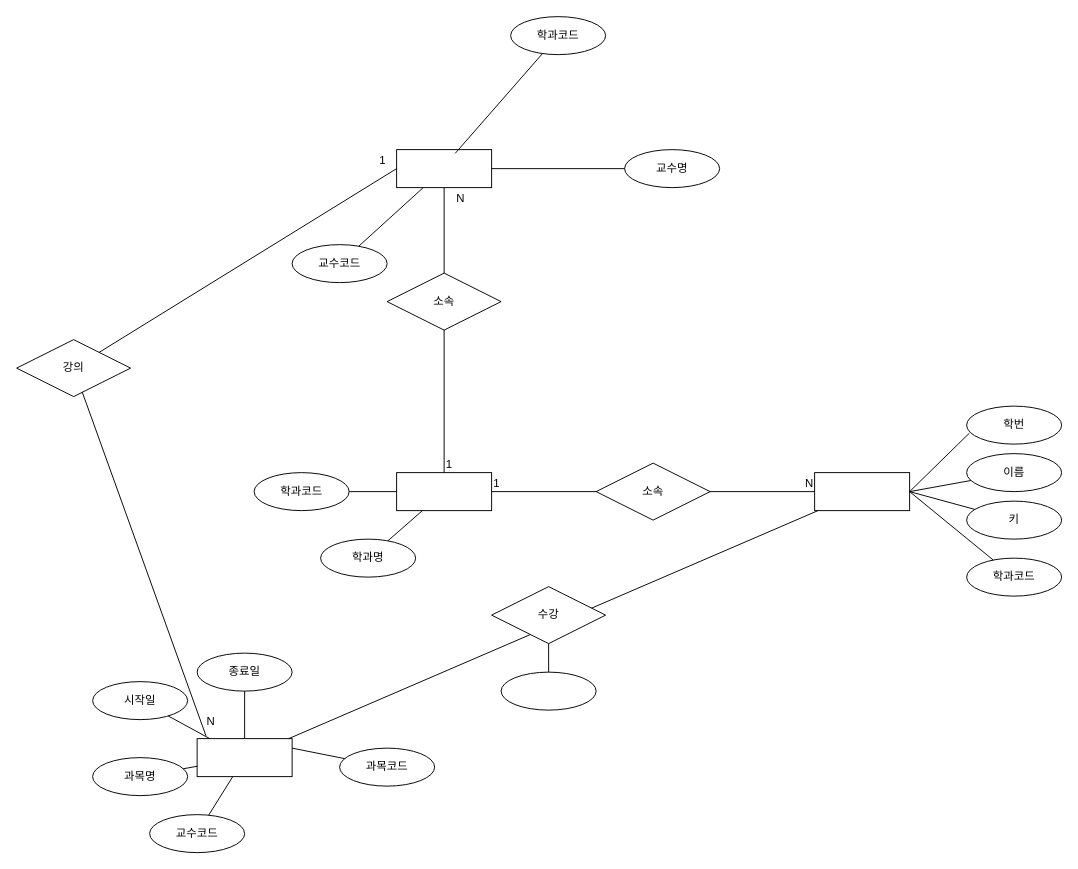
Some shapes in this 1078 by 869 pixel diagram are drawn without their labels. Each missing label, with the centre of its shape:
"개설과목" goes at (x=244, y=757).
"교수" goes at (x=444, y=168).
"수강일자" goes at (x=548, y=690).
"학과" goes at (x=444, y=491).
"학생" goes at (x=862, y=491).
